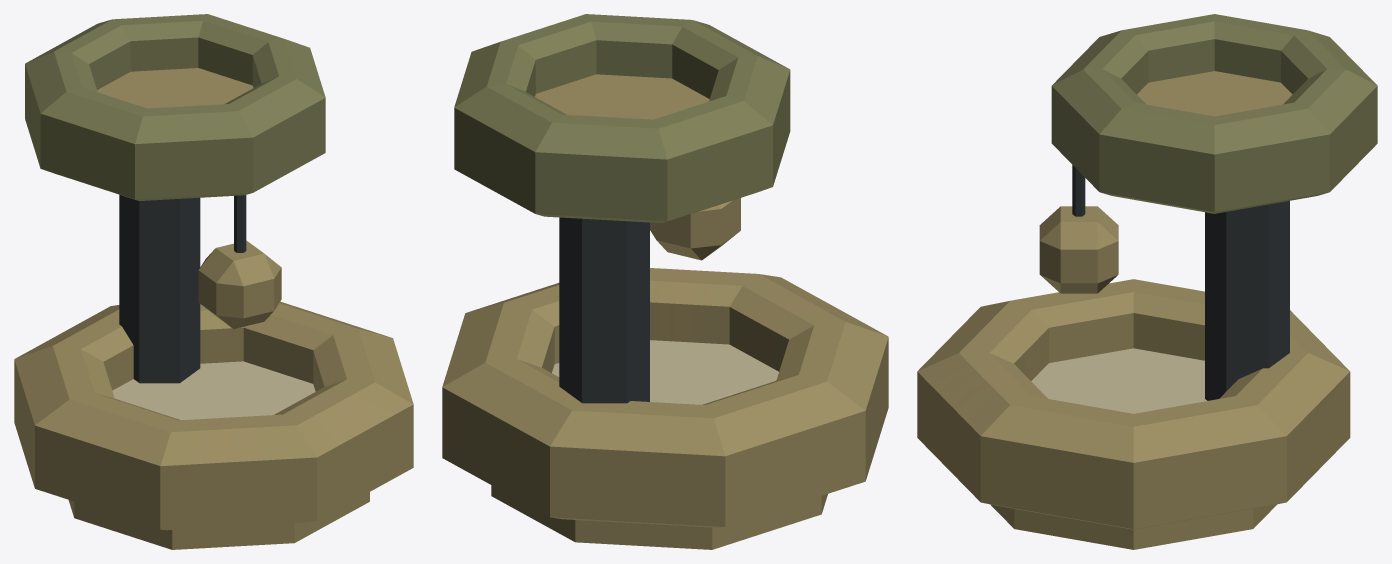
File: climber.fbx
3 renders of one model, left to right at view 1: azimuth 30°, elevation 25°; view 2: azimuth 150°, elevation 25°; view 3: azimuth 270°, elevation 25°, orthographic. The views are drawn at different scales.
Visible parts, largest first — view 1: climber; view 2: climber; view 3: climber.
Part boxes in pixels (bbox=[...]): climber: bbox=[14, 14, 413, 549]; climber: bbox=[442, 14, 888, 549]; climber: bbox=[917, 14, 1377, 549].
Size of the model in its own units: 172 by 180 by 183.
